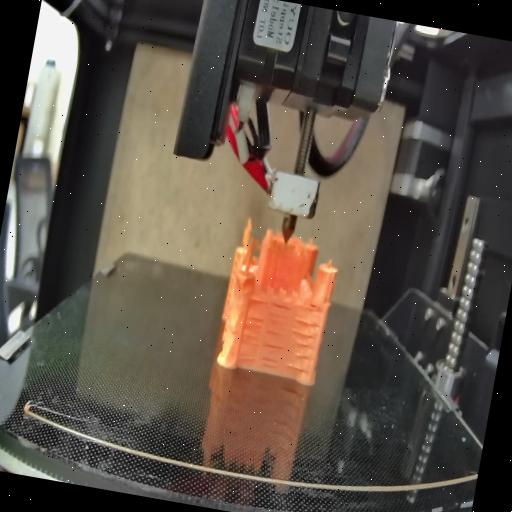cracks: (284, 318, 322, 372), (236, 314, 264, 362), (263, 302, 292, 340), (258, 340, 286, 372), (245, 294, 267, 310), (307, 298, 320, 312)
